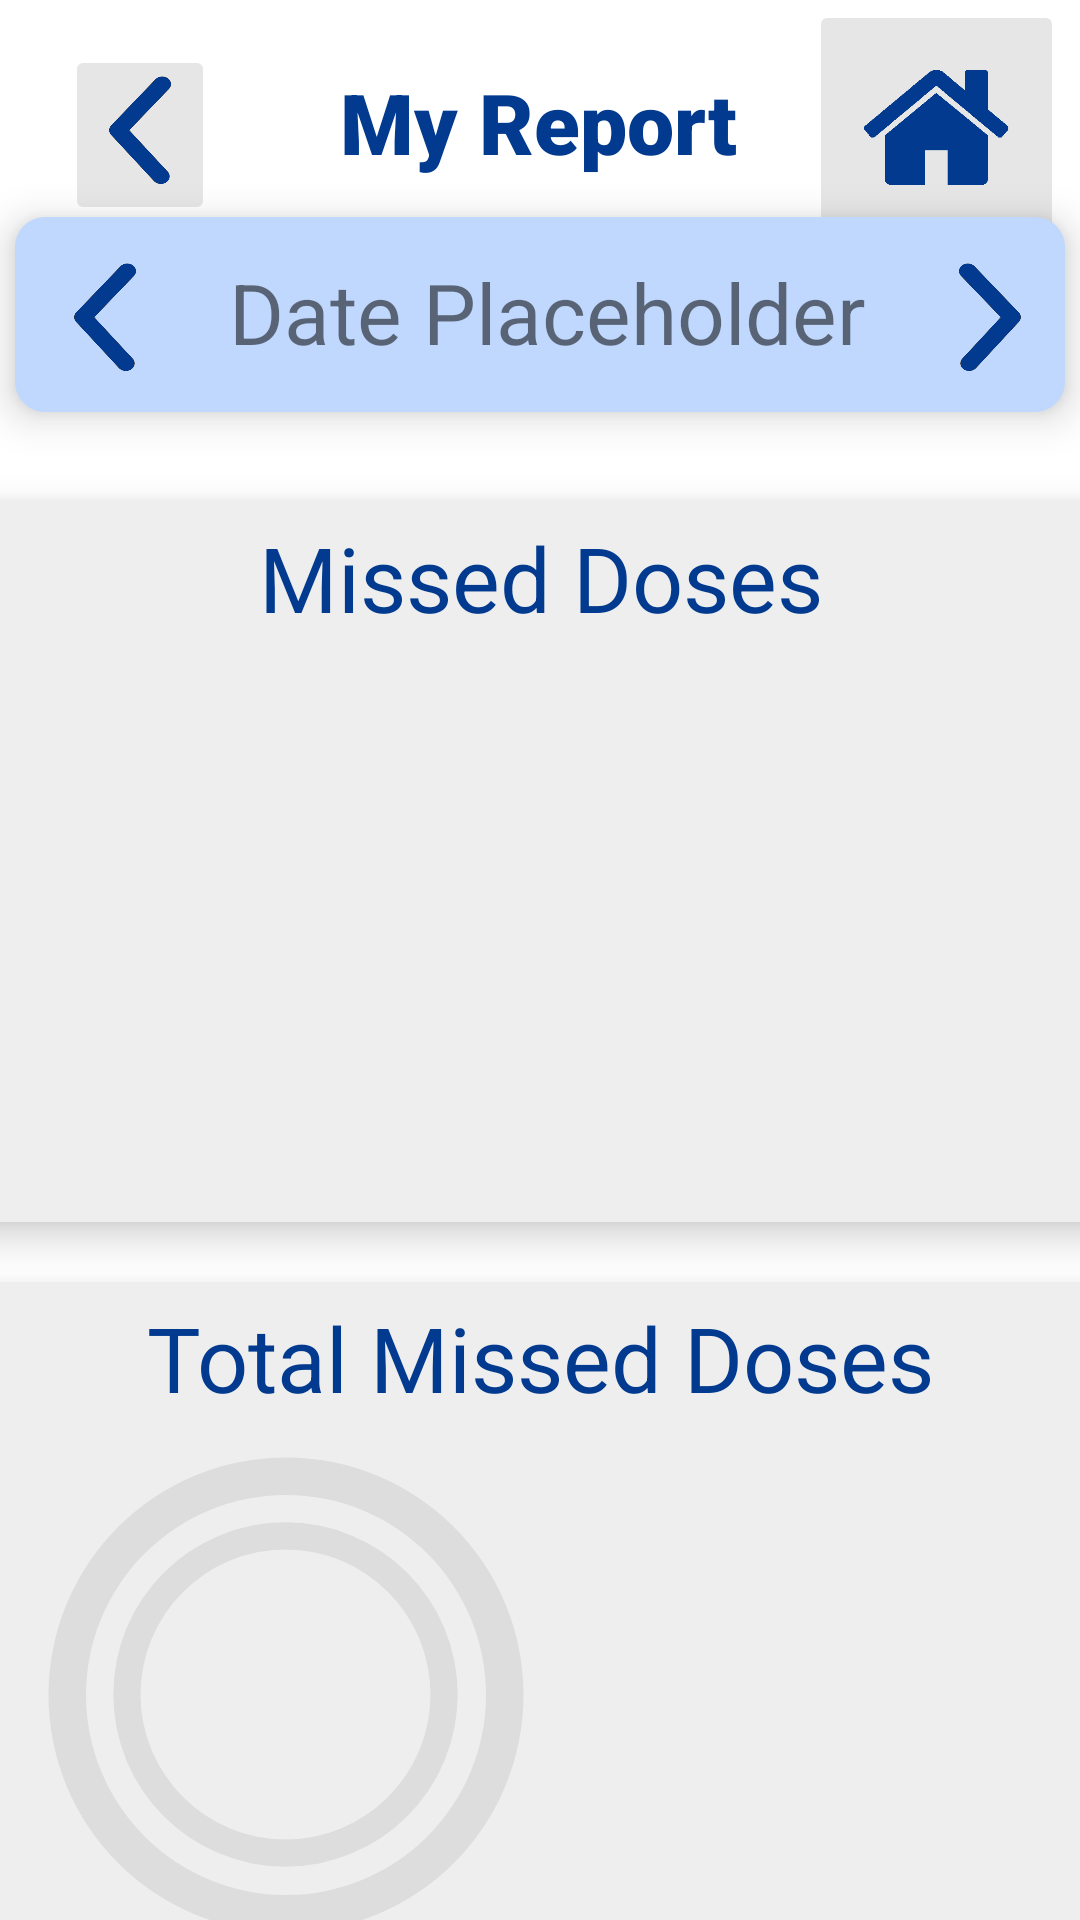

Point at icon controls on the screen. Image size 1080*1920, points as (x=x, y=y).
home: (x=936, y=127)
